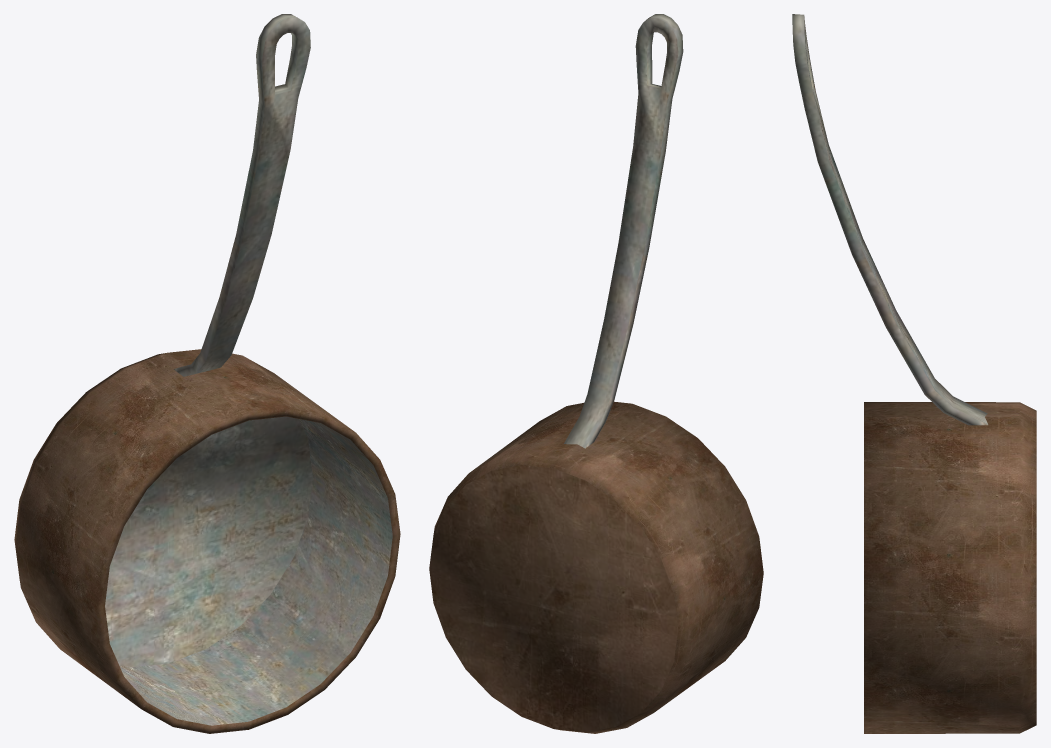
Rendered from prop_kitchencopperpan.glb.
3 renders of one model, left to right at view 1: azimuth 30°, elevation 25°; view 2: azimuth 150°, elevation 25°; view 3: azimuth 270°, elevation 25°, orthographic. The views are drawn at different scales.
Bounding box in the file's own units: 10.44 × 24.32 × 7.66.
1 material, 1 textured.
